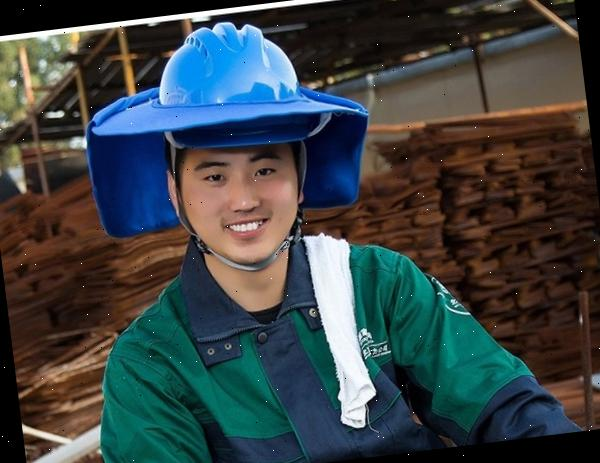helmet: (148, 11, 308, 118)
wear: (96, 252, 487, 463)
